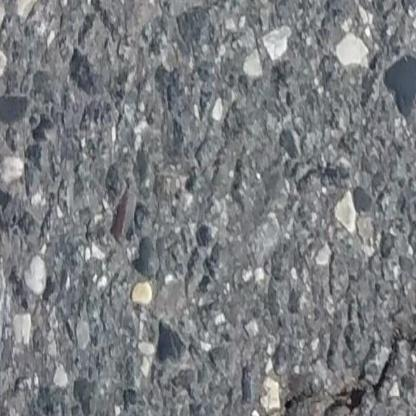Cracks: (321, 321, 416, 416), (238, 381, 320, 416)
